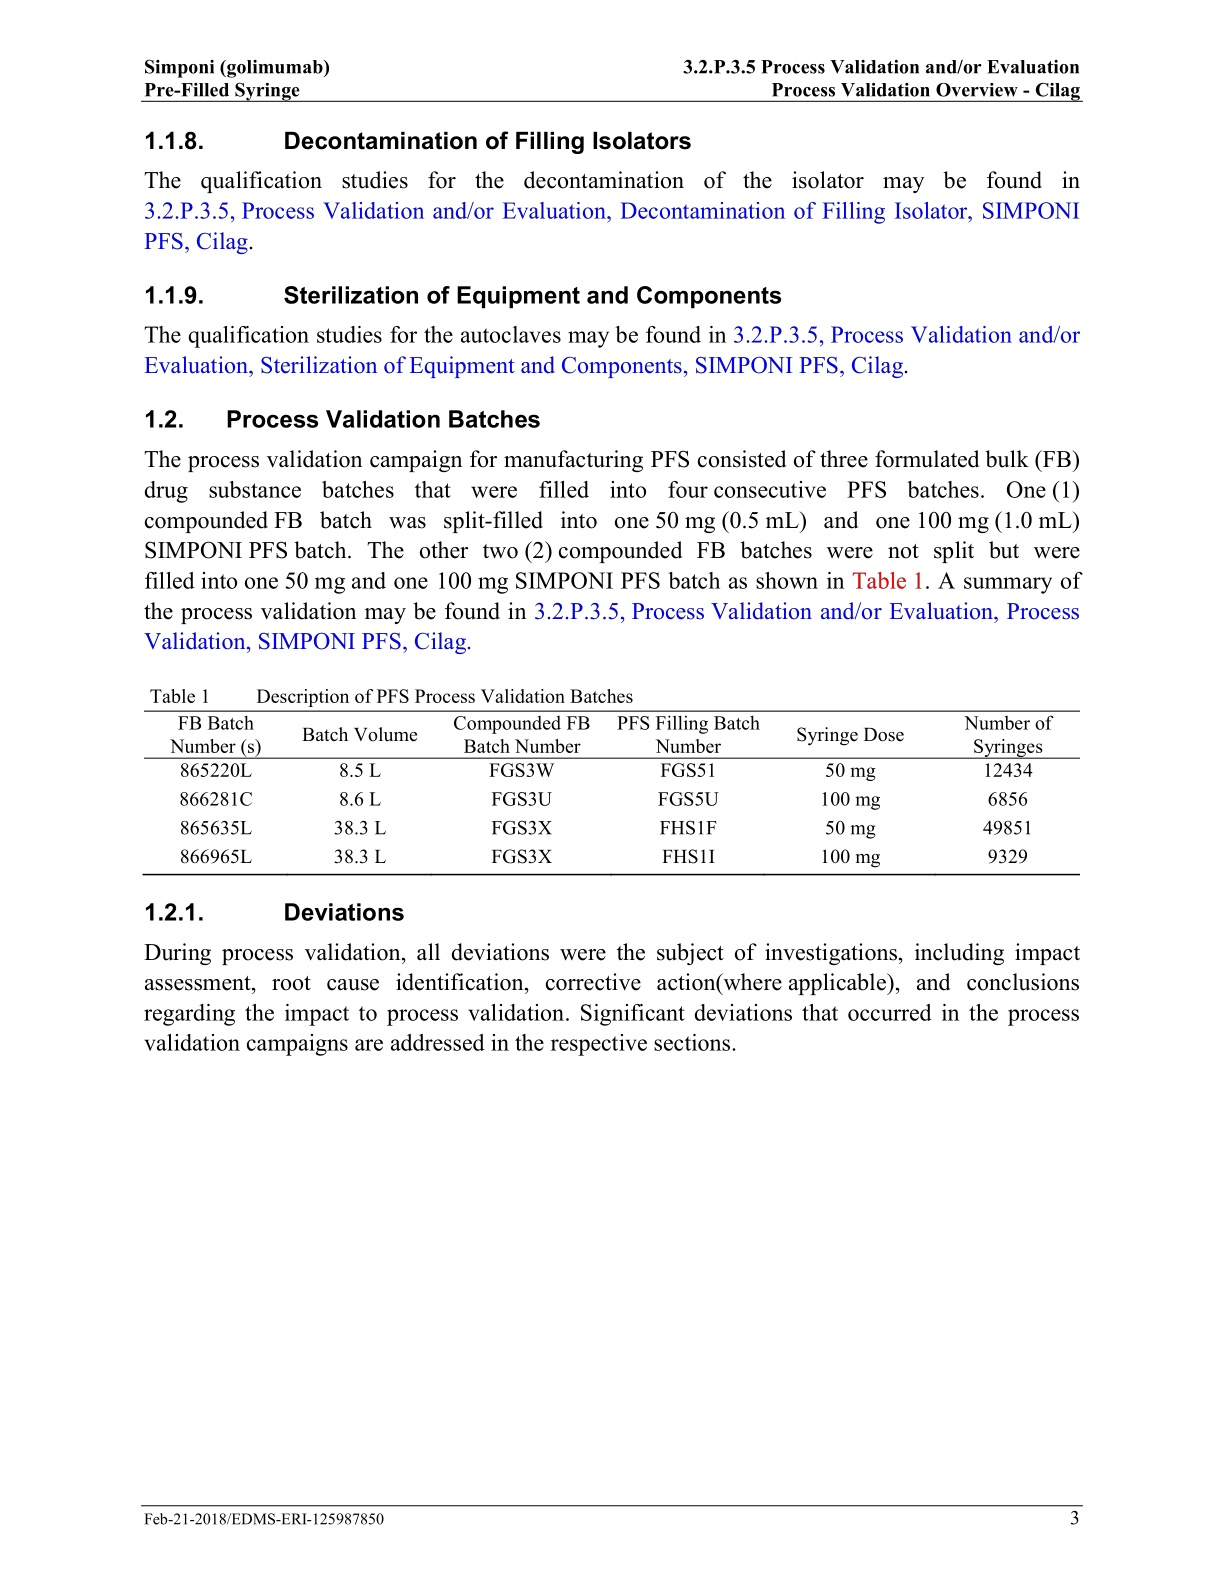partial_lined: (141, 710, 1080, 876)
